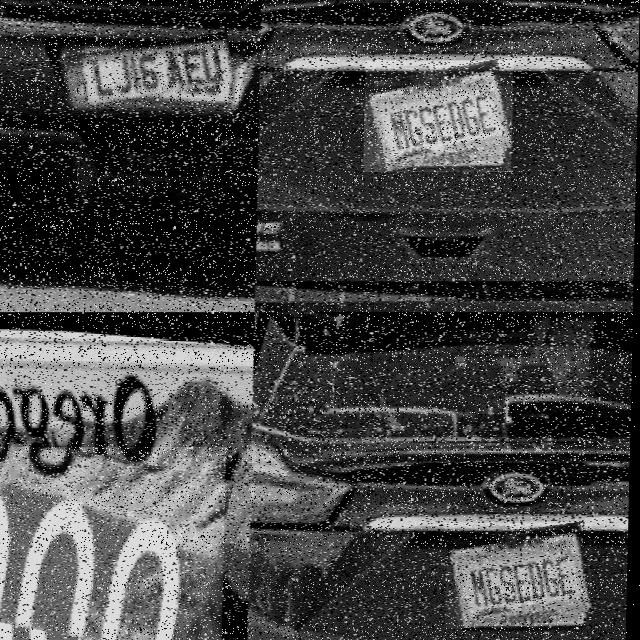LicensePlate: (0, 447, 228, 640), (366, 61, 513, 172), (450, 523, 593, 629), (66, 32, 235, 107)
